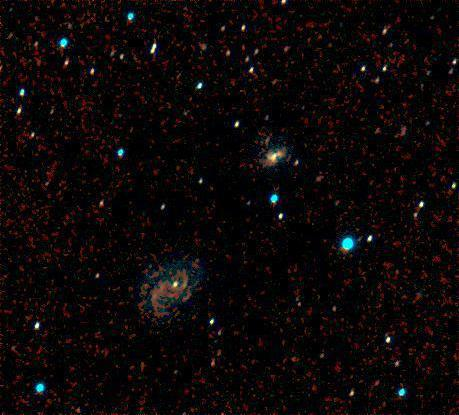star: (182, 247, 212, 277)
